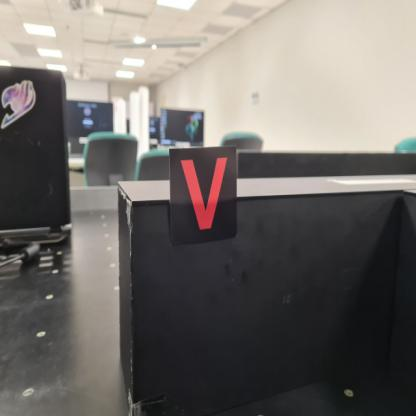v: (170, 147, 240, 245)
